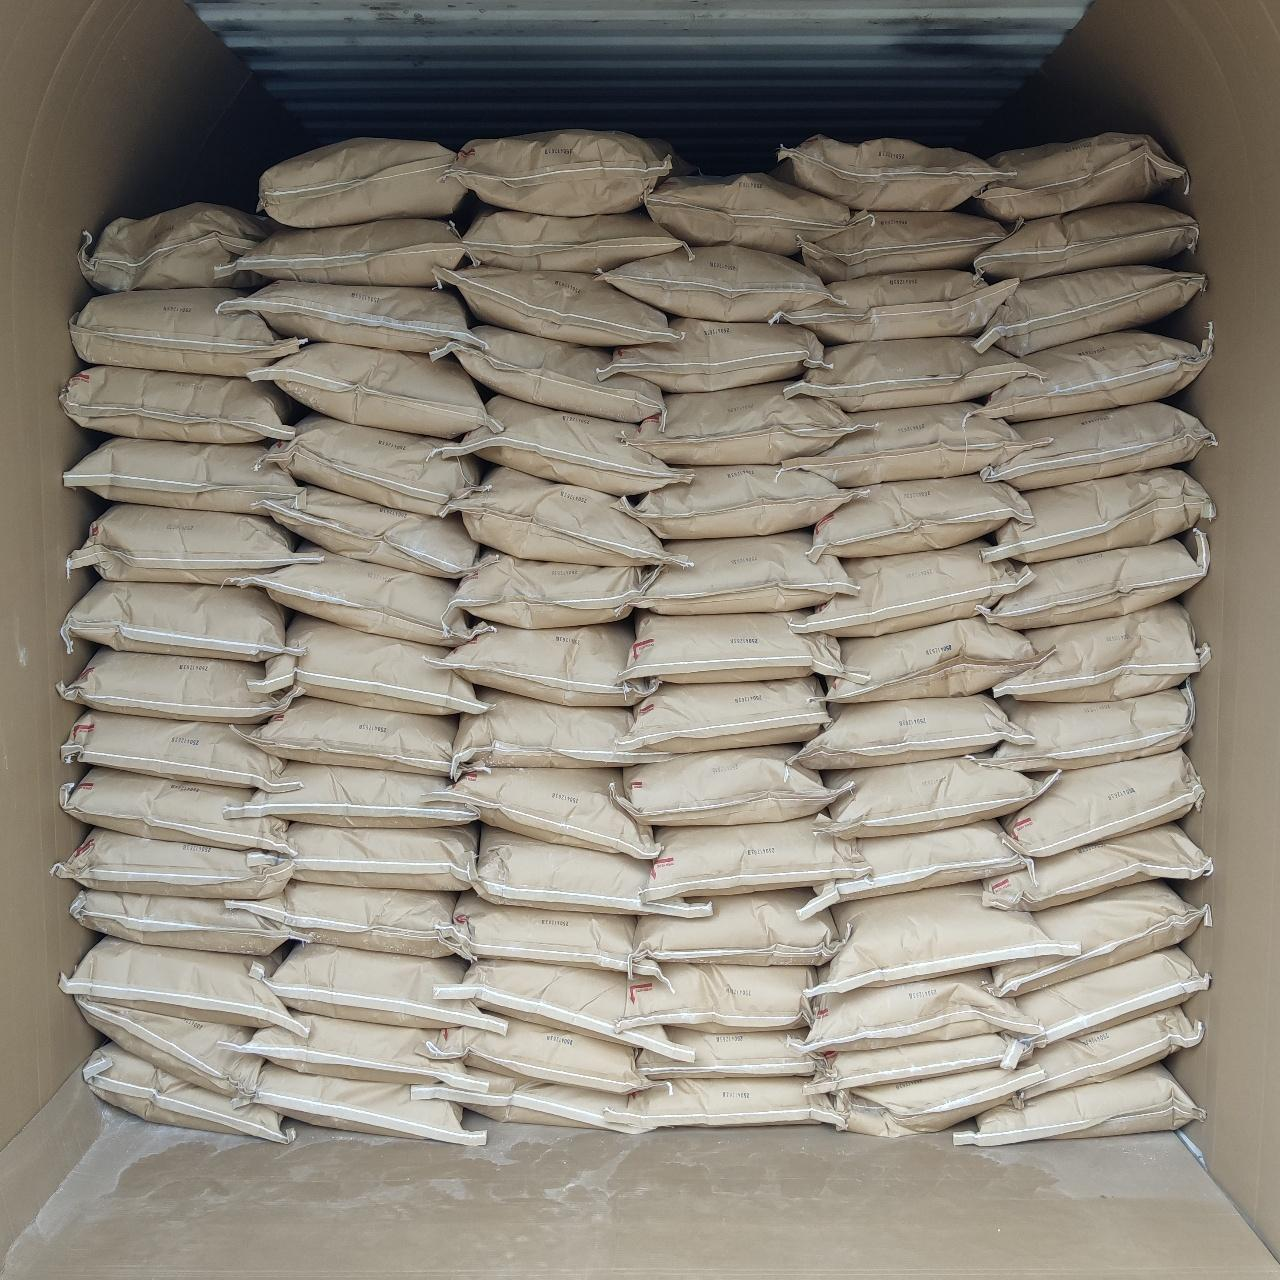sack: (806, 882, 1079, 996), (224, 546, 493, 647), (433, 960, 694, 1061), (998, 945, 1207, 1069), (60, 936, 308, 1039), (429, 325, 665, 433), (992, 881, 1210, 997), (441, 395, 693, 495), (446, 467, 692, 568), (246, 342, 501, 439), (247, 615, 492, 714), (437, 890, 673, 992), (797, 819, 1033, 920), (977, 528, 1209, 630), (250, 943, 507, 1035), (421, 762, 659, 860), (254, 413, 479, 516), (782, 402, 1053, 487), (789, 542, 1032, 636), (471, 825, 712, 918), (982, 323, 1212, 420), (982, 467, 1213, 562), (993, 601, 1210, 702), (226, 878, 473, 966), (1002, 750, 1203, 858), (217, 280, 497, 357), (83, 1042, 296, 1143), (62, 767, 295, 858), (972, 265, 1202, 356), (622, 382, 873, 465), (232, 1063, 485, 1145), (68, 504, 325, 584), (815, 755, 1059, 839), (955, 1064, 1204, 1146), (980, 403, 1214, 490), (71, 288, 302, 376), (216, 1012, 480, 1089), (791, 972, 1038, 1054), (983, 823, 1212, 911), (434, 265, 682, 346), (452, 687, 669, 779), (61, 710, 300, 793), (446, 129, 674, 216), (60, 580, 304, 661), (827, 616, 1053, 703), (262, 486, 478, 577), (641, 817, 870, 902), (610, 745, 852, 825), (972, 132, 1187, 222), (808, 474, 1032, 560), (783, 337, 1039, 412), (57, 648, 303, 724), (257, 138, 467, 227), (790, 694, 1035, 770), (633, 531, 857, 614), (416, 1015, 651, 1094), (439, 622, 660, 706), (769, 270, 1019, 344), (63, 437, 305, 513), (77, 1000, 262, 1099), (60, 366, 293, 444), (973, 203, 1198, 283), (980, 687, 1194, 771), (597, 317, 834, 392), (77, 203, 270, 292), (215, 219, 467, 287), (1021, 1005, 1203, 1099), (646, 173, 854, 255), (600, 245, 827, 320), (634, 890, 839, 973), (619, 465, 851, 538), (52, 828, 292, 898), (772, 136, 1005, 208), (244, 697, 459, 775), (615, 676, 830, 753), (224, 762, 478, 827), (70, 889, 315, 955), (619, 610, 840, 683), (453, 551, 658, 628), (247, 822, 477, 890), (411, 1067, 645, 1133), (797, 210, 1008, 283), (462, 207, 680, 272), (848, 1064, 1042, 1137), (595, 1077, 847, 1133), (619, 963, 816, 1032), (806, 1034, 1025, 1092), (636, 1027, 825, 1081)
